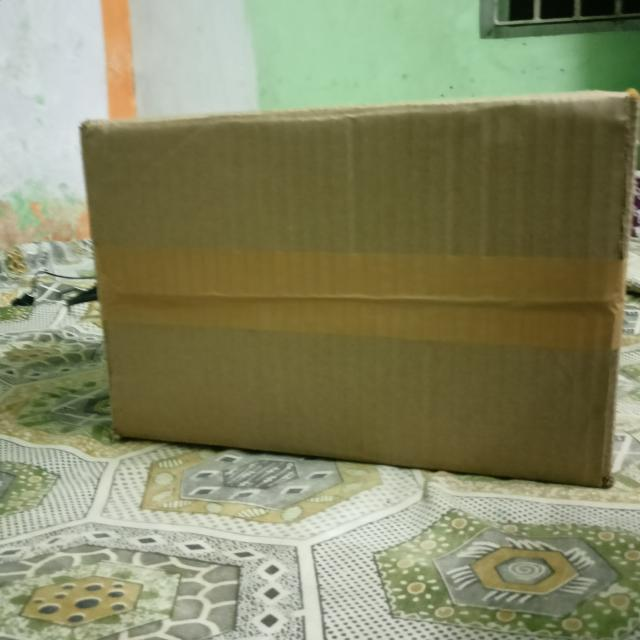box: (84, 98, 626, 483)
